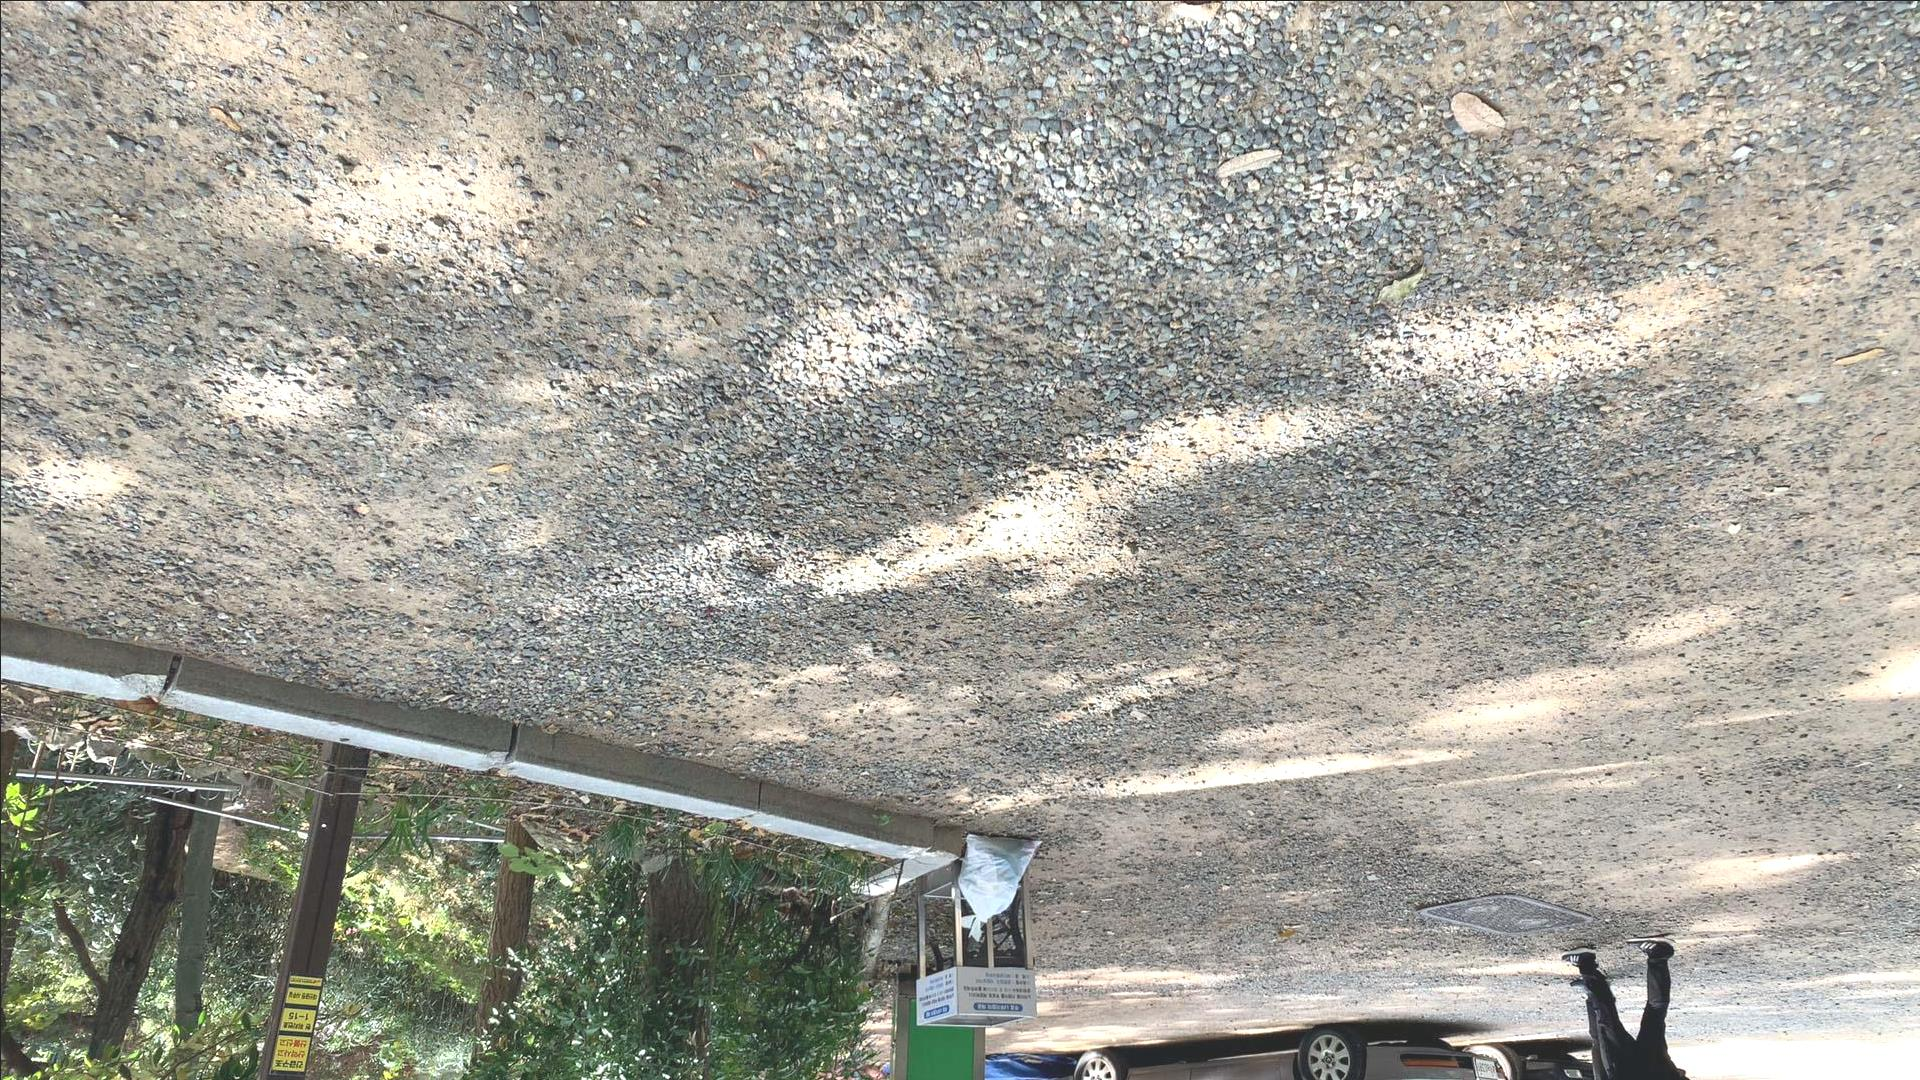white_bag: (949, 828, 1046, 944)
